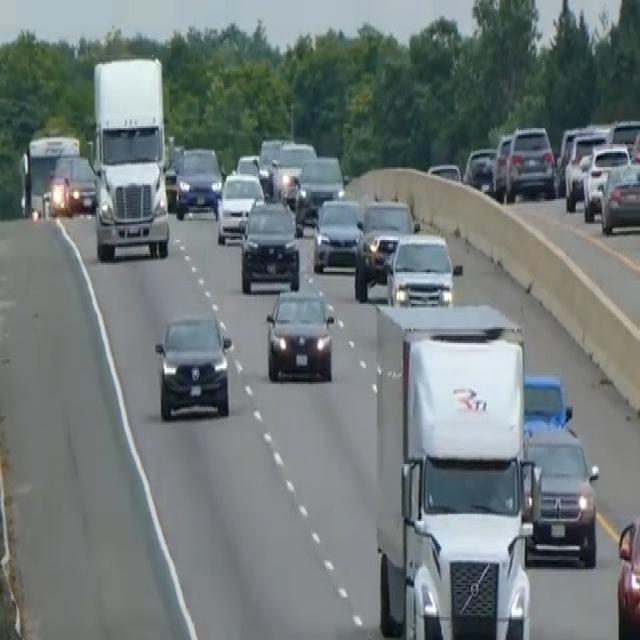car: (523, 421, 599, 567), (154, 309, 233, 422), (264, 284, 335, 382), (353, 198, 418, 300), (239, 198, 300, 294), (385, 230, 457, 308), (312, 194, 363, 274), (293, 153, 344, 233), (504, 123, 556, 201), (581, 140, 631, 220), (563, 130, 608, 212), (174, 144, 222, 220), (216, 169, 264, 245), (522, 370, 572, 437), (48, 151, 96, 217), (615, 508, 639, 638), (269, 138, 316, 204), (599, 158, 639, 235), (463, 144, 497, 196), (163, 140, 185, 207), (491, 130, 513, 197), (257, 135, 283, 183), (427, 160, 461, 183), (235, 151, 260, 180), (630, 123, 639, 169)
lorry: (372, 299, 541, 638), (88, 54, 171, 262)
